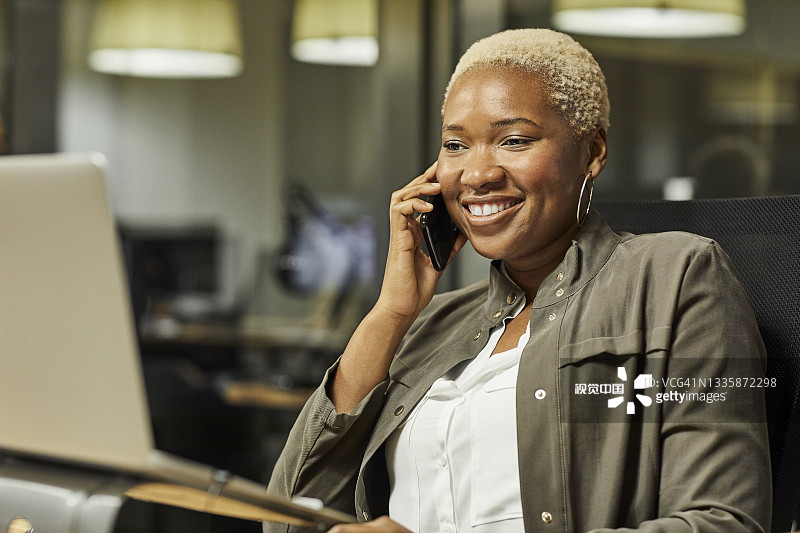calling: (359, 139, 481, 328)
